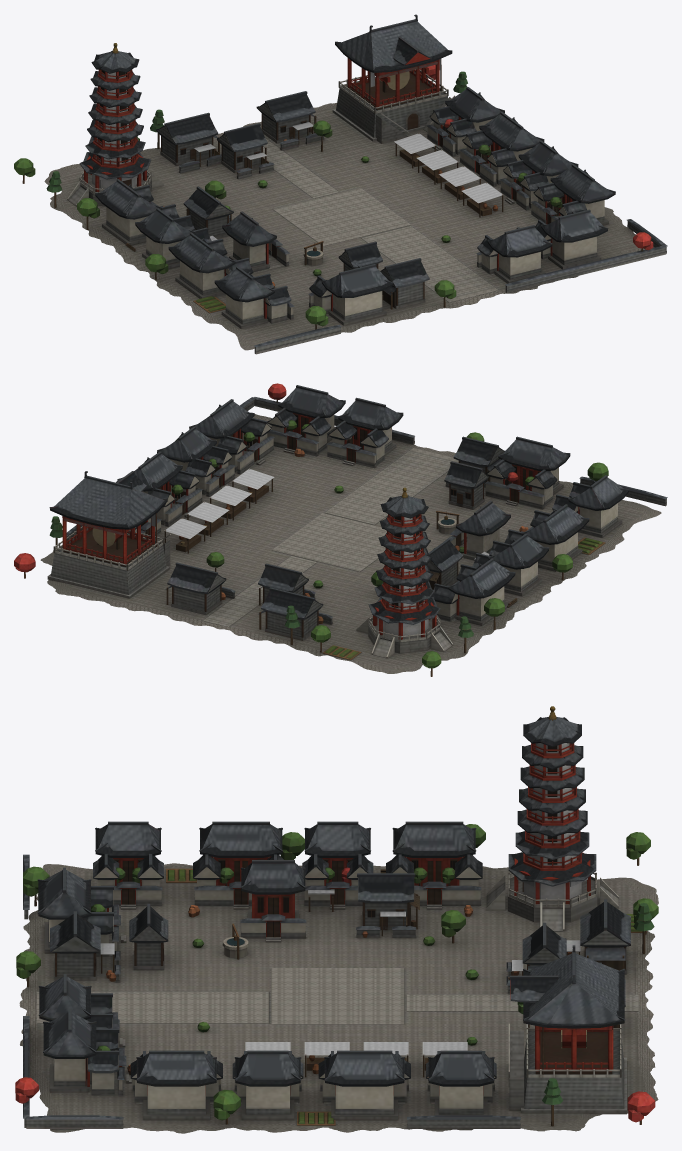
File: kingdoms-town-medium-a-sinic.glb
The picture shows the model from 3 angles, top to bottom: view 1: azimuth 30°, elevation 25°; view 2: azimuth 150°, elevation 25°; view 3: azimuth 270°, elevation 25°; orthographic projection. The views are drawn at different scales.
Parts seen in each view (by area): view 1: LOD0; view 2: LOD0; view 3: LOD0.
Boxes of the visible parts, x1,y1,x2,y2 form: LOD0: (14,14,667,354); LOD0: (14,383,667,676); LOD0: (15,706,658,1133).
Size of what is drawn, in the model's own units: 6.04 by 2.05 by 6.09.
Materials: 3 (3 with a texture image).
